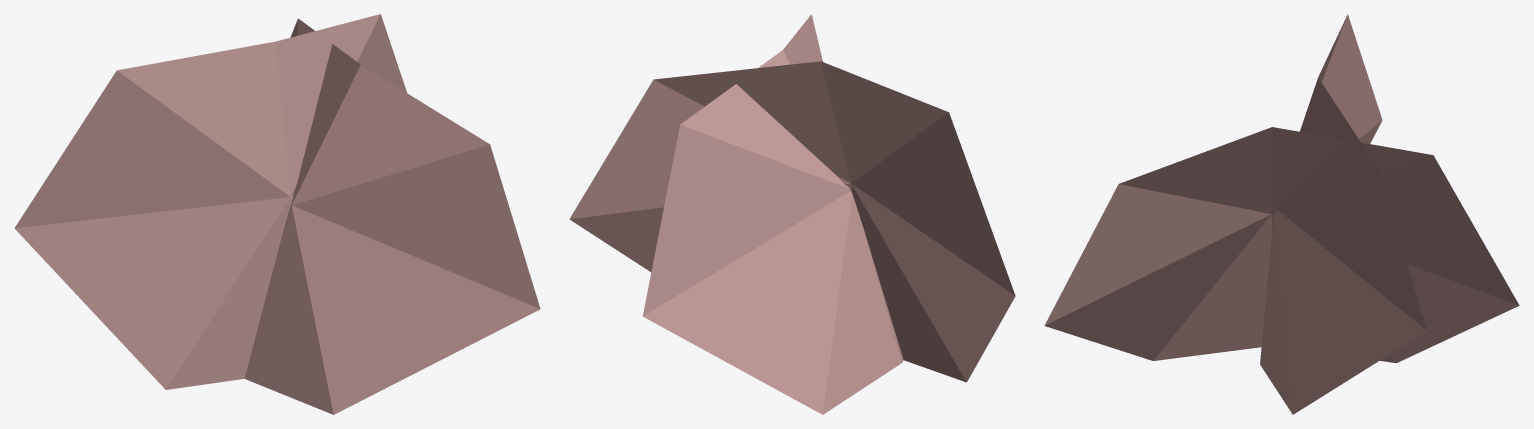
File: SM_FOL_Grass_Clump_04_A.obj
3 renders of one model, left to right at view 1: azimuth 30°, elevation 25°; view 2: azimuth 150°, elevation 25°; view 3: azimuth 270°, elevation 25°, orthographic. The views are drawn at different scales.
Visible parts, largest first — view 1: SM_FOL_Grass_Clump_04_A; view 2: SM_FOL_Grass_Clump_04_A; view 3: SM_FOL_Grass_Clump_04_A.
Part boxes in pixels (x1,y1,x2,y2): SM_FOL_Grass_Clump_04_A: (14, 14, 540, 414); SM_FOL_Grass_Clump_04_A: (569, 14, 1015, 414); SM_FOL_Grass_Clump_04_A: (1044, 14, 1519, 414).
Bounding box in the file's own units: 56.46 × 40.01 × 56.34.
